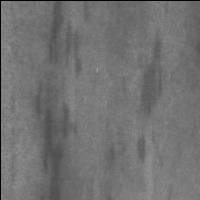inclusion: (38, 1, 85, 195), (135, 19, 169, 124), (130, 127, 152, 169)
